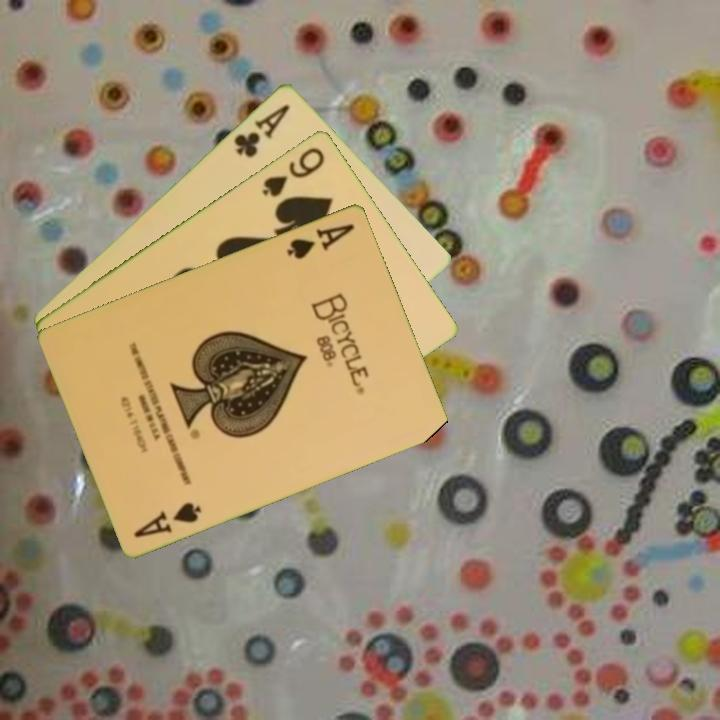9s: (258, 143, 328, 200)
Ac: (230, 99, 293, 160)
As: (283, 219, 358, 262), (130, 498, 205, 540)
